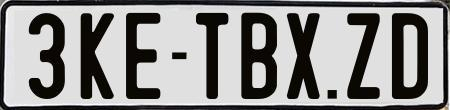3: (26, 10, 64, 99)
B: (239, 10, 279, 98)
D: (392, 10, 431, 96)
E: (125, 12, 165, 101)
K: (81, 10, 114, 102)
T: (195, 13, 232, 104)
X: (287, 12, 321, 100)
Z: (346, 10, 383, 98)
